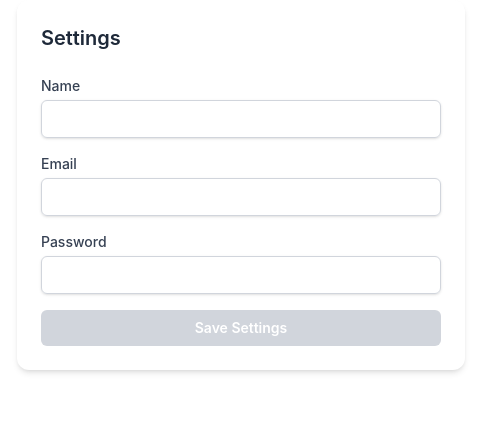
it: SettingsForm › success message disappears when editing resumes
The width and height of the screenshot is (483, 443).
Type "Ada" into the field labelled "Name" at [241, 119], box [41,100,441,138]
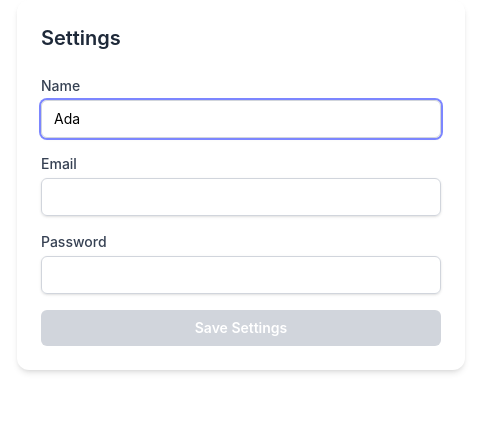
Type "ada@example.com" into the field labelled "Email" at [241, 197], box [41,178,441,216]
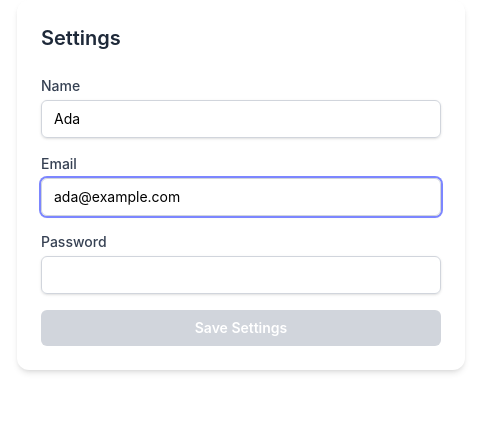
Type "secret123" into the password field labelled "Password" at [241, 275], box [41,256,441,294]
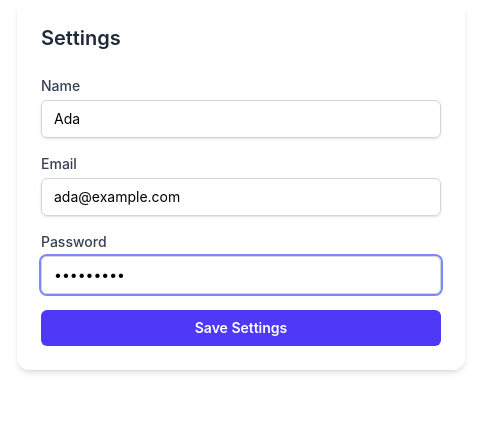
Click the button "Save Settings" at [241, 328], box [41,310,441,346]
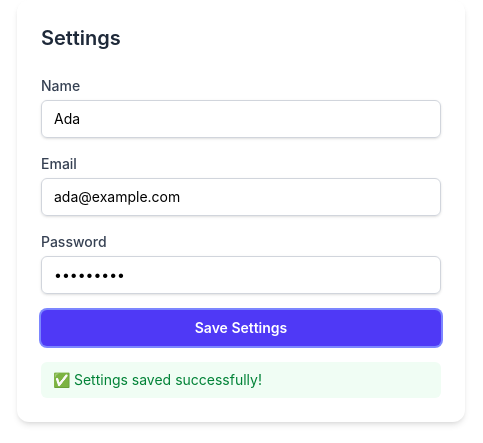
Expected: the message "✅ Settings saved successfully!" is shown, [41,362,441,398]
Type "x" into the field labelled "Name" at [241, 119], box [41,100,441,138]
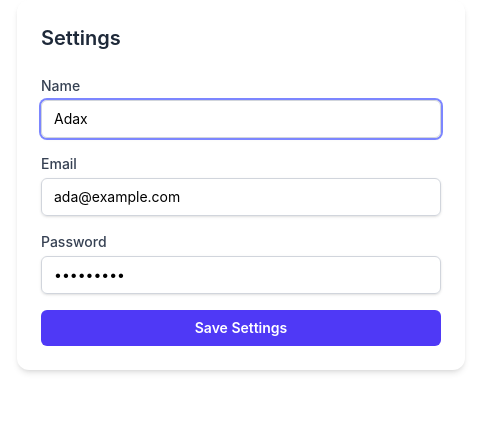
Expected: the message "✅ Settings saved successfully!" is gone
